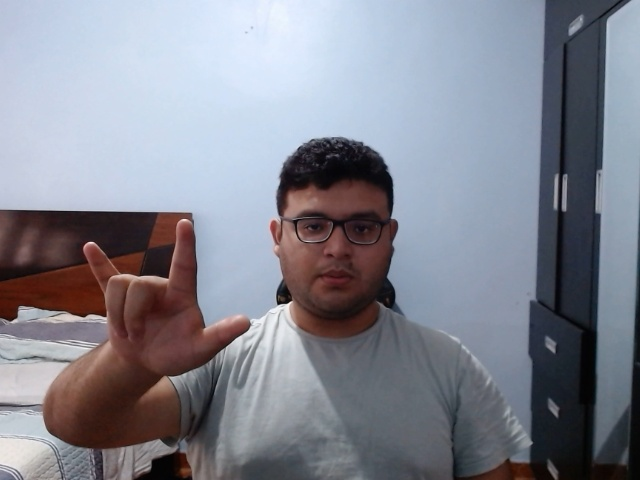I love you: (76, 215, 258, 381)
